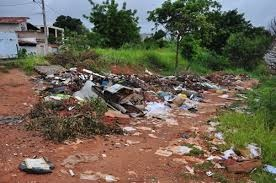rubble: (28, 64, 199, 110), (178, 119, 272, 177), (197, 70, 256, 90)
